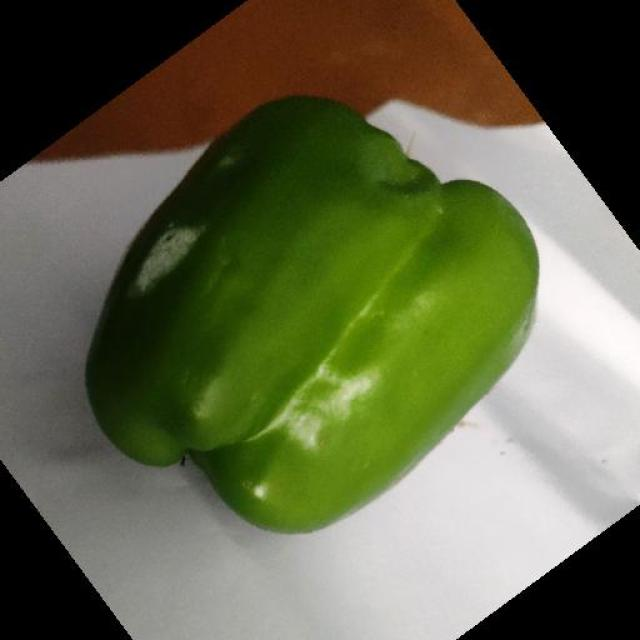Stale_Capsicum: (86, 187, 250, 336)
